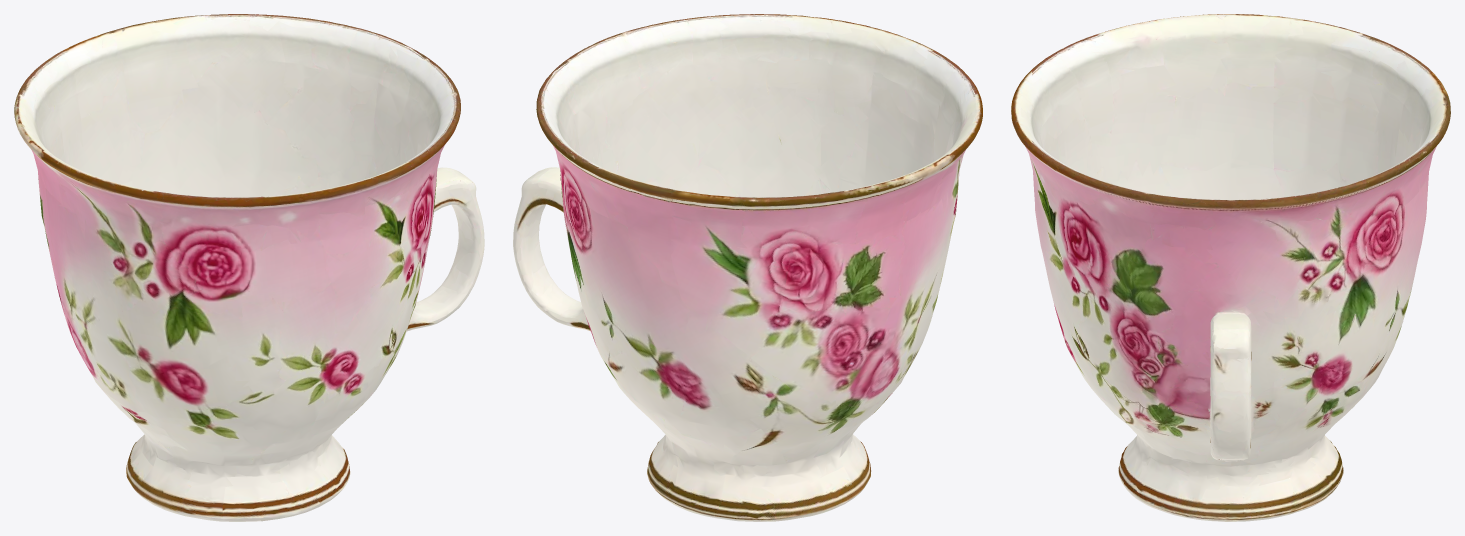
The model's file is kitchen-teacup-04.glb.
The picture shows the model from 3 angles, left to right: view 1: azimuth 30°, elevation 25°; view 2: azimuth 150°, elevation 25°; view 3: azimuth 270°, elevation 25°; orthographic projection.
Size of the model in its own units: 1.9 by 1.55 by 1.67.
1 material, 1 textured.
